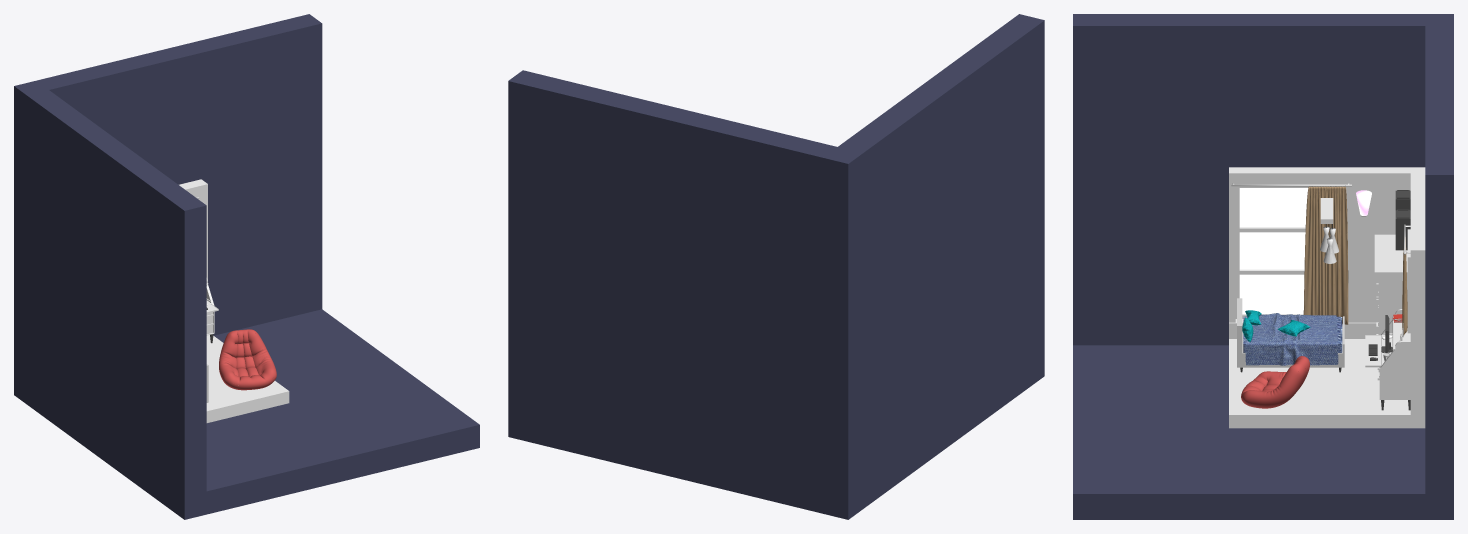
The model's file is environment-bedroom-001.glb.
The picture shows the model from 3 angles, left to right: view 1: azimuth 30°, elevation 25°; view 2: azimuth 150°, elevation 25°; view 3: azimuth 270°, elevation 25°; orthographic projection. The views are drawn at different scales.
Visible parts, largest first — view 1: Walls.001, Floor, puffy_chair, Walls; view 2: Walls.001; view 3: Walls.001, Walls, Floor, window.001, curtain_1.001, bedsheet, shelf, Cupboard, puffy_chair, bed, speakers.001, chandeliers.
Boxes of the visible parts, x1,y1,x2,y2 form: Walls.001: [14, 14, 479, 519]; Floor: [206, 335, 289, 422]; puffy_chair: [219, 329, 276, 390]; Walls: [179, 179, 207, 282]; Walls.001: [508, 14, 1044, 519]; Walls.001: [1073, 14, 1453, 519]; Walls: [1229, 167, 1425, 414]; Floor: [1229, 339, 1425, 428]; window.001: [1235, 188, 1346, 322]; curtain_1.001: [1303, 186, 1348, 324]; bedsheet: [1245, 313, 1338, 365]; shelf: [1365, 309, 1410, 410]; Cupboard: [1374, 234, 1407, 372]; puffy_chair: [1241, 356, 1309, 408]; bed: [1237, 298, 1344, 367]; speakers.001: [1395, 209, 1410, 250]; chandeliers: [1320, 226, 1338, 263].
Size of the model in its own units: 7.75 by 7.75 by 7.75.
21 materials, 3 textured.
